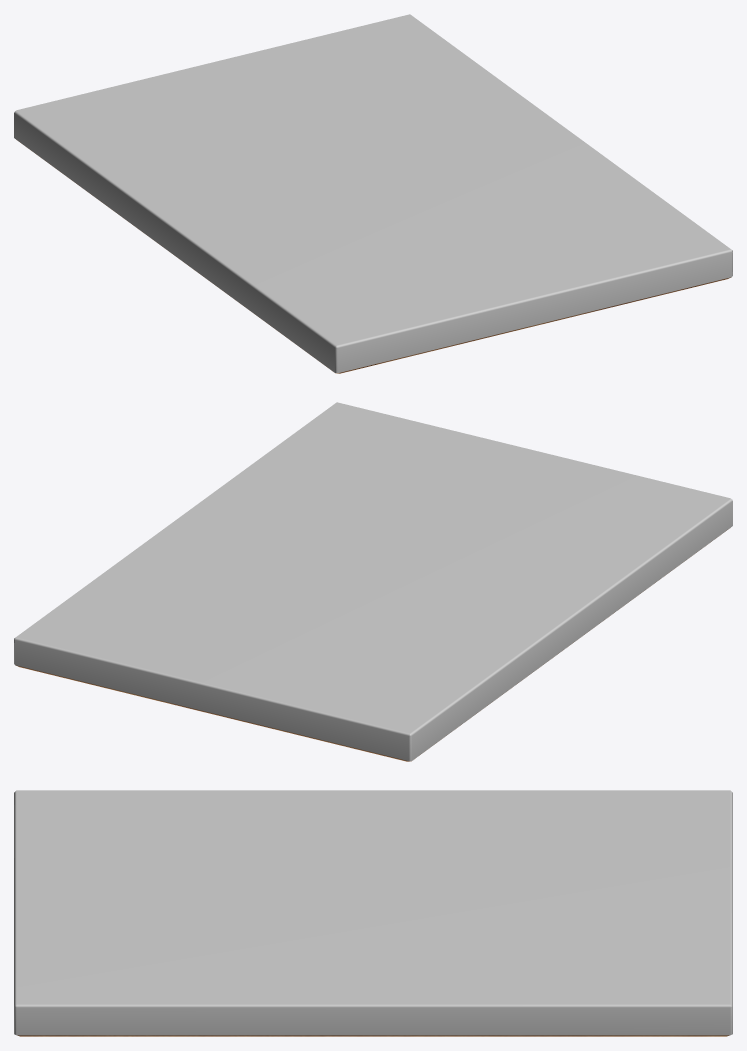
File: SM_artpractice_sketch_02.fbx
3 renders of one model, top to bottom at view 1: azimuth 30°, elevation 25°; view 2: azimuth 150°, elevation 25°; view 3: azimuth 270°, elevation 25°, orthographic. The views are drawn at different scales.
Visible parts, largest first — view 1: artpractice08; view 2: artpractice08; view 3: artpractice08.
Part boxes in pixels (x1=…): artpractice08: x1=14, y1=14, x2=732, y2=373; artpractice08: x1=14, y1=402, x2=732, y2=761; artpractice08: x1=14, y1=790, x2=732, y2=1036.
Bounding box in the file's own units: 20.32 × 1.43 × 28.57.
